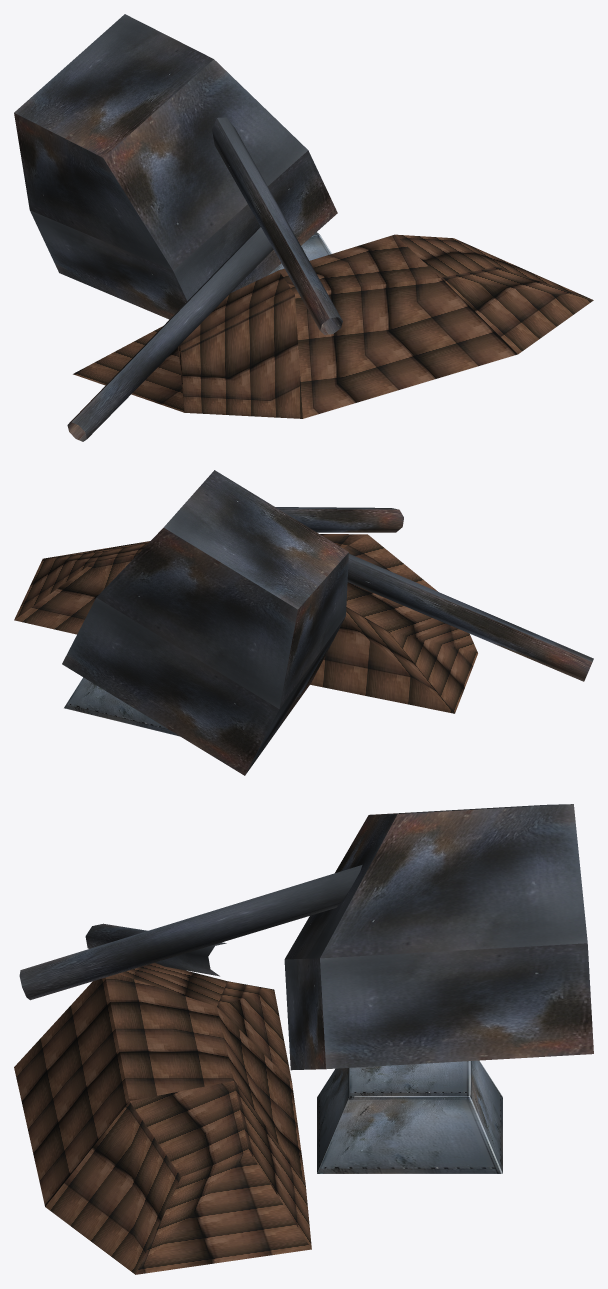
File: aagunruin1.gltf
3 renders of one model, top to bottom at view 1: azimuth 30°, elevation 25°; view 2: azimuth 150°, elevation 25°; view 3: azimuth 270°, elevation 25°, orthographic. The views are drawn at different scales.
Visible parts, largest first — view 1: aagunruin1_atomic0, aagunruin1_atomic1; view 2: aagunruin1_atomic0, aagunruin1_atomic1; view 3: aagunruin1_atomic1, aagunruin1_atomic0.
Part boxes in pixels (x1,y1,x2,y2): aagunruin1_atomic0: [14, 14, 342, 441]; aagunruin1_atomic1: [73, 232, 593, 418]; aagunruin1_atomic0: [62, 470, 593, 775]; aagunruin1_atomic1: [14, 534, 477, 736]; aagunruin1_atomic1: [14, 962, 502, 1274]; aagunruin1_atomic0: [19, 804, 593, 1070].
Bounding box in the file's own units: 35.05 × 14.81 × 26.14.
Materials: 3 (3 with a texture image).
